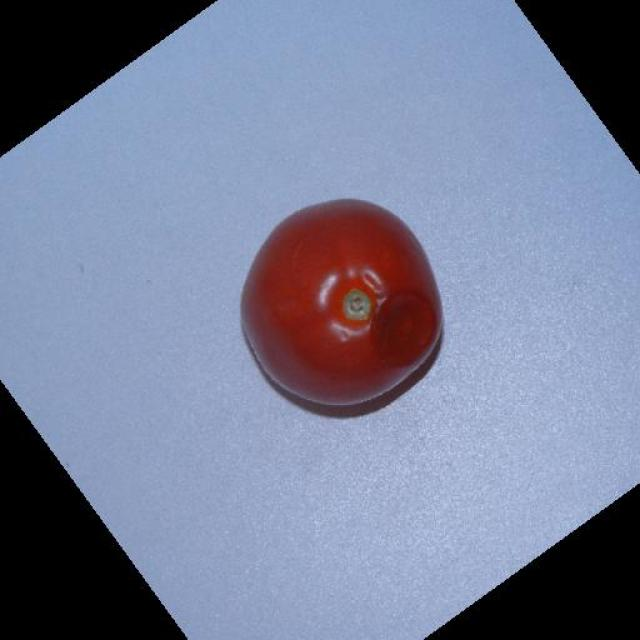Stale_tomato: (291, 247, 456, 395)
